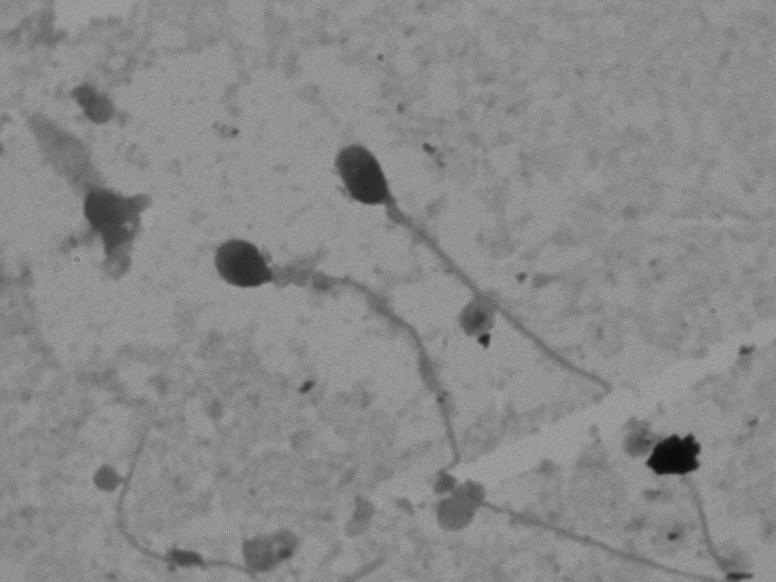Abnormal: (175, 214, 682, 578), (302, 125, 635, 424)
